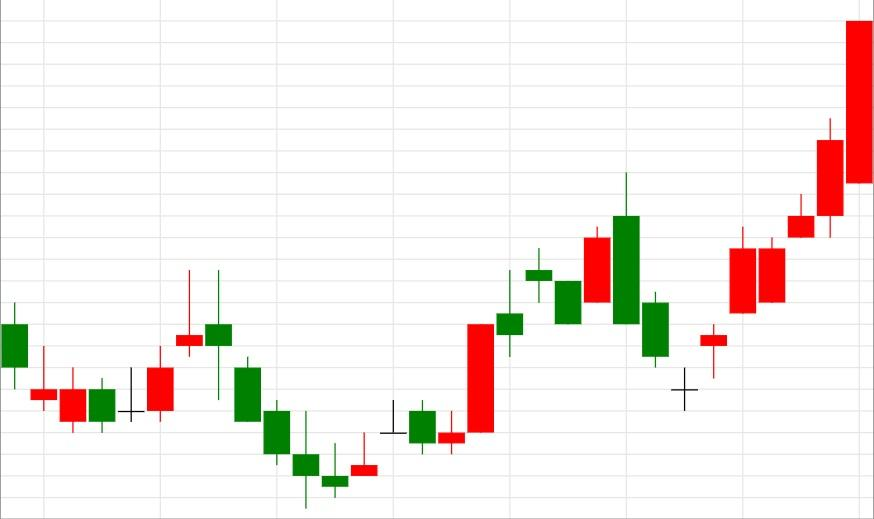bearish_engulfing_fall: (437, 173, 641, 455), (58, 270, 233, 433)
